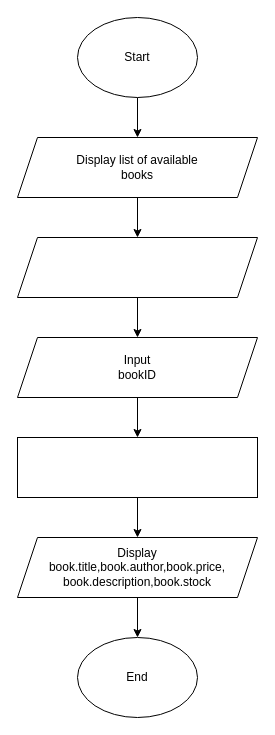
The diagram is 275 pixels wide and 735 high, and some of its shapes have lost their labels. The centre of each missing label's shape, as x and y in pixels:
Display "Select book ID to view details": (x=137, y=267)
Retrieve book using bookID: (x=137, y=467)
